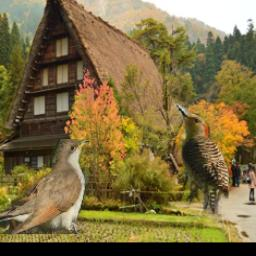Cuckoo: (0, 140, 90, 235)
Woodpecker: (174, 103, 229, 214)
